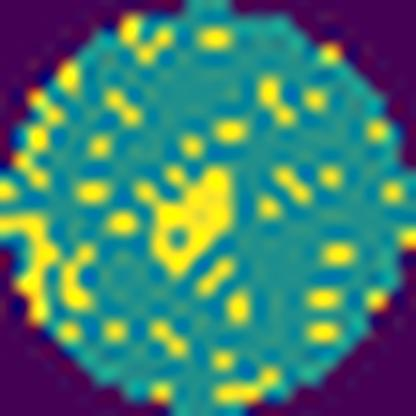Center: (147, 165, 231, 283)
